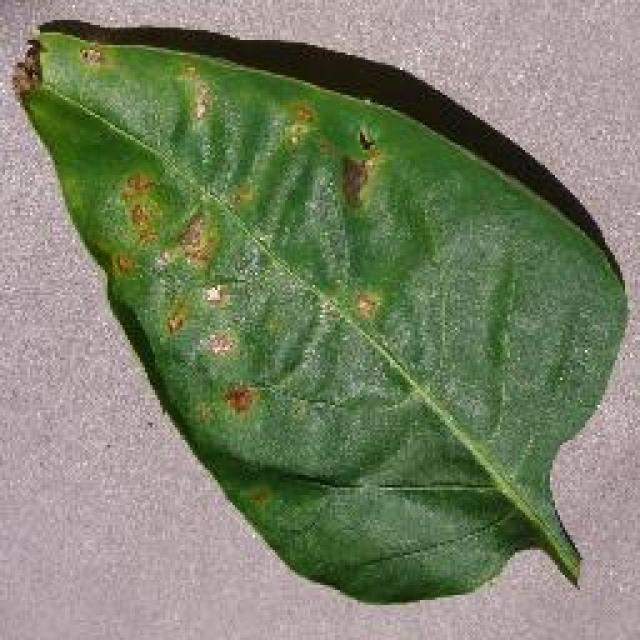Chilli_Bacterial_Spot: (10, 18, 632, 608), (102, 92, 392, 428), (105, 165, 263, 423), (113, 168, 165, 250), (168, 205, 220, 273), (173, 57, 215, 125), (7, 32, 45, 102), (333, 150, 375, 212), (275, 98, 320, 152), (120, 198, 160, 248), (218, 378, 258, 418), (158, 292, 190, 340), (345, 285, 383, 325), (198, 325, 238, 360), (350, 120, 380, 158), (198, 278, 232, 310), (105, 248, 137, 280), (75, 40, 105, 70)
